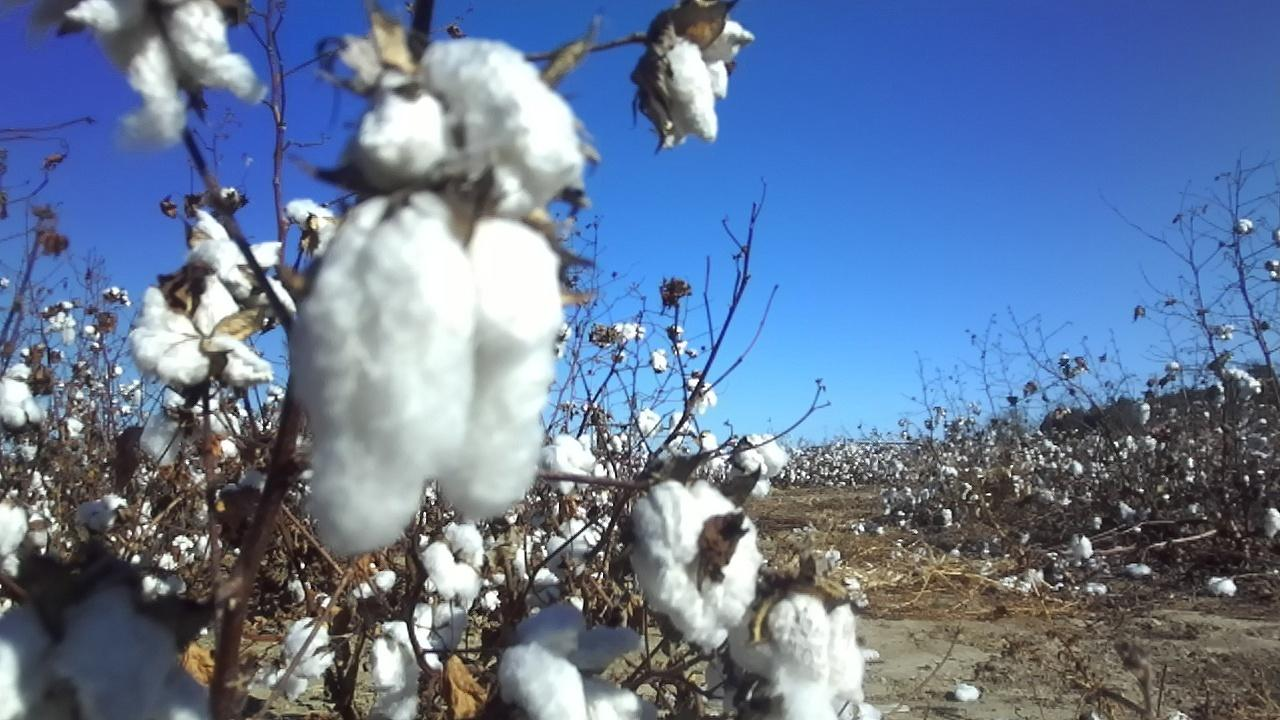cotton_ready: (293, 40, 585, 557), (65, 0, 272, 144), (0, 589, 215, 720), (627, 479, 759, 652), (708, 584, 865, 720), (497, 599, 646, 720), (137, 274, 276, 385), (657, 9, 754, 140), (189, 207, 284, 310), (144, 387, 245, 470), (371, 620, 444, 720), (419, 517, 482, 605), (267, 622, 334, 696), (532, 434, 590, 494), (287, 200, 343, 258), (0, 363, 42, 425)
